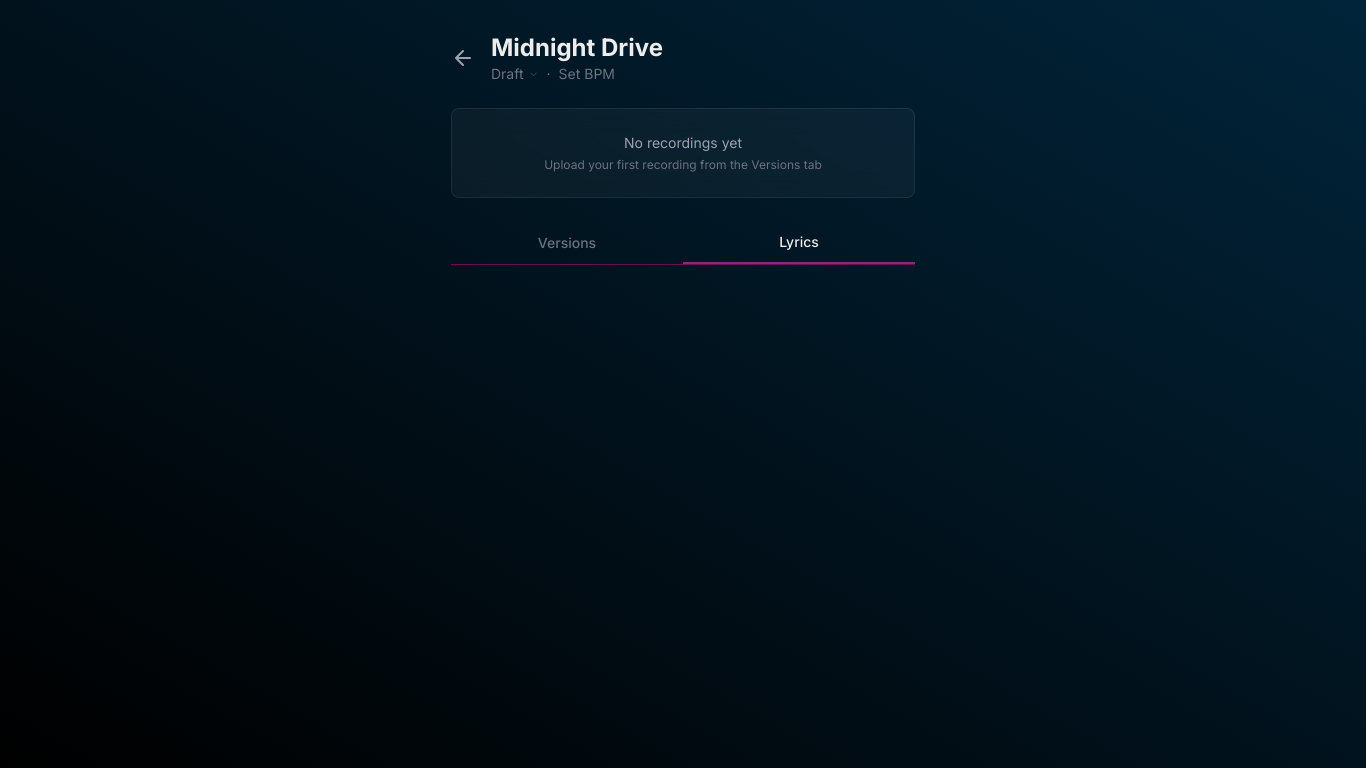
SongDetailView › saves a status change and refreshes the router so the catalog list stays in sync
Click the button titled "Click to change status".
click(515, 74)  # box x1=491 y1=64 x2=538 y2=84
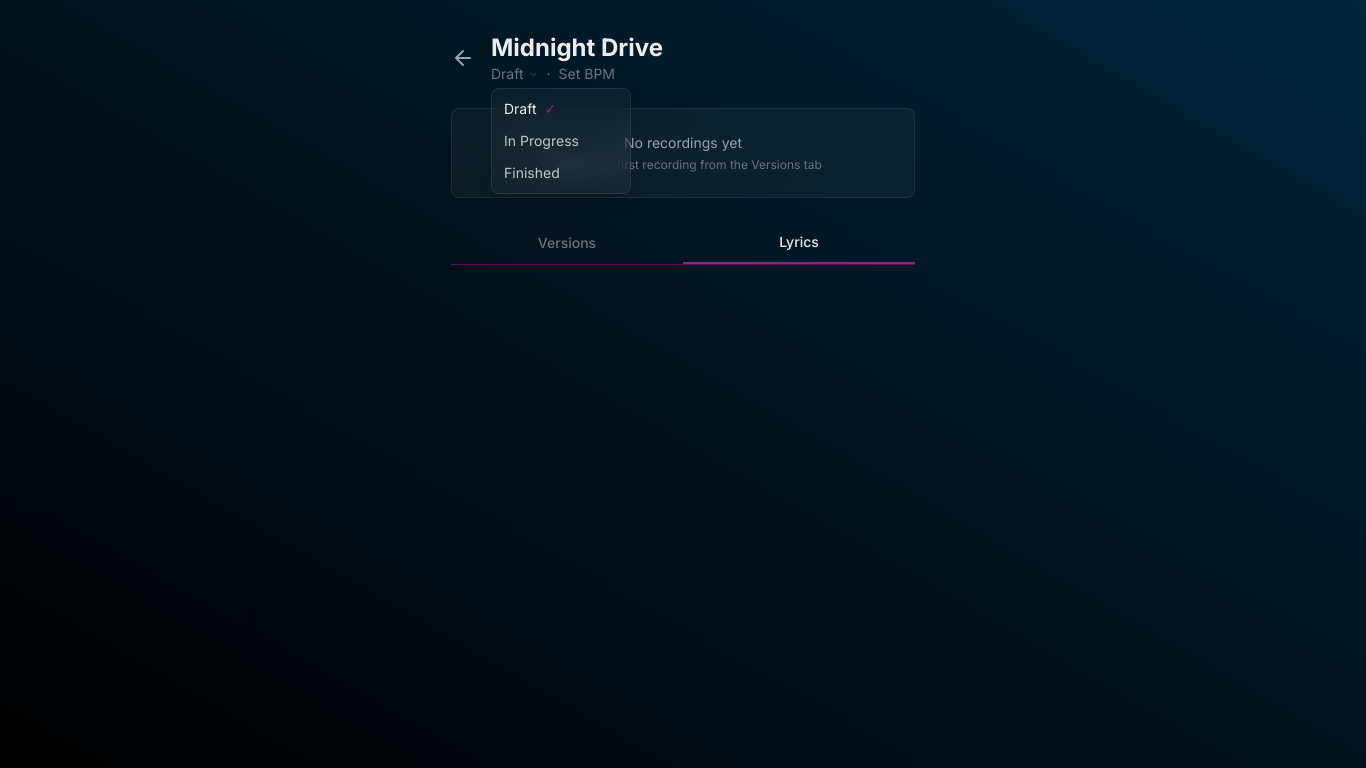
Click the option "Finished".
click(561, 173)  # box x1=492 y1=157 x2=630 y2=189
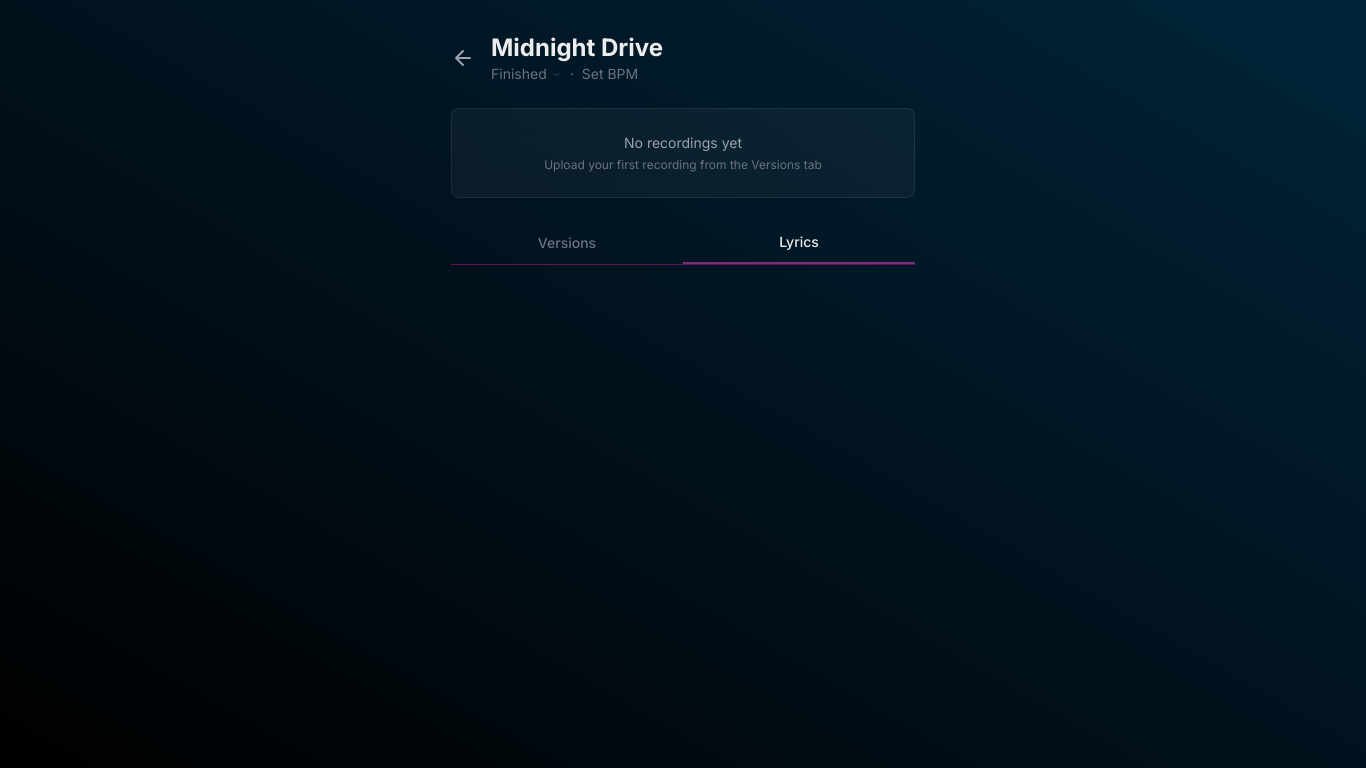
Expected: the button titled "Click to change status" reads "Finished", x1=491 y1=64 x2=562 y2=84
